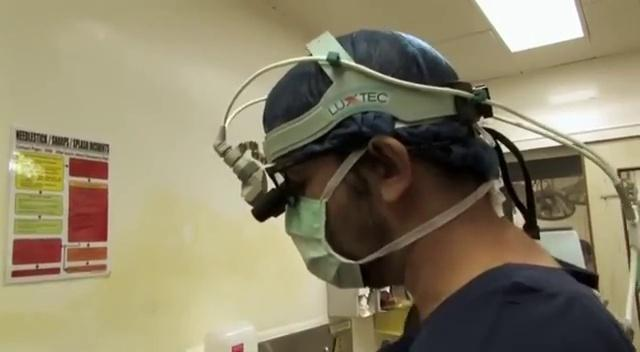doctor: (213, 27, 637, 351)
